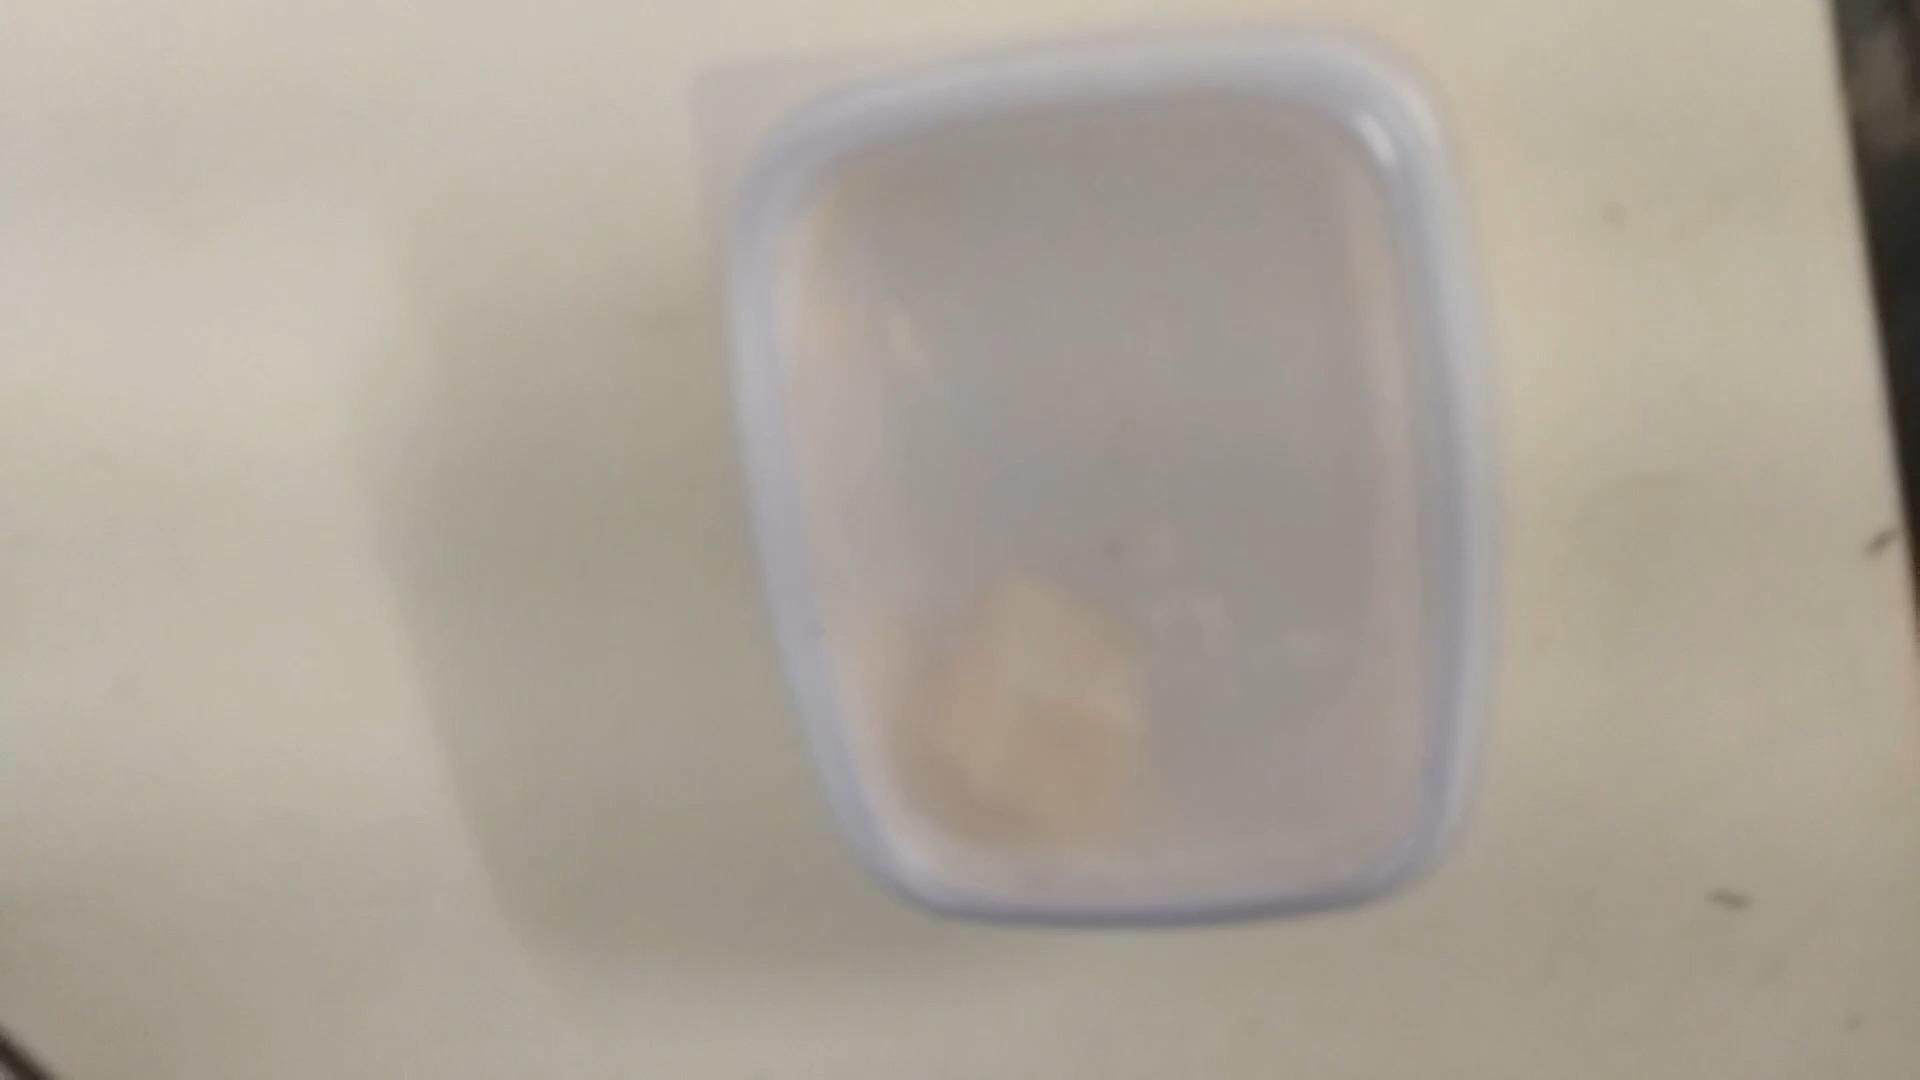butter: (723, 36, 1487, 945)
